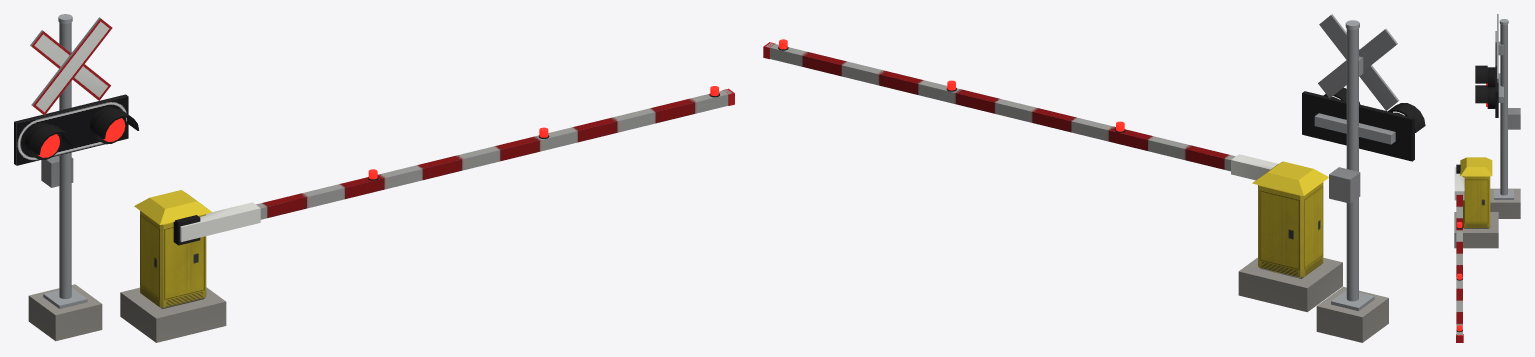
The model's file is level_crossing.glb.
3 renders of one model, left to right at view 1: azimuth 30°, elevation 25°; view 2: azimuth 150°, elevation 25°; view 3: azimuth 270°, elevation 25°, orthographic. The views are drawn at different scales.
Parts seen in each view (by area): view 1: post, barrier_arm, barrier_base; view 2: post, barrier_base, barrier_arm; view 3: post, barrier_base, barrier_arm.
Boxes of the visible parts, x1,y1,x2,y2 form: post: (14, 14, 139, 341); barrier_arm: (173, 86, 734, 245); barrier_base: (120, 190, 226, 342); post: (1302, 14, 1425, 342); barrier_base: (1238, 161, 1342, 312); barrier_arm: (763, 39, 1278, 180); post: (1475, 14, 1520, 218); barrier_base: (1454, 157, 1498, 248); barrier_arm: (1454, 164, 1464, 342).
Size of the model in its own units: 8.84 by 3.8 by 1.2.
Materials: 3 (1 with a texture image).
